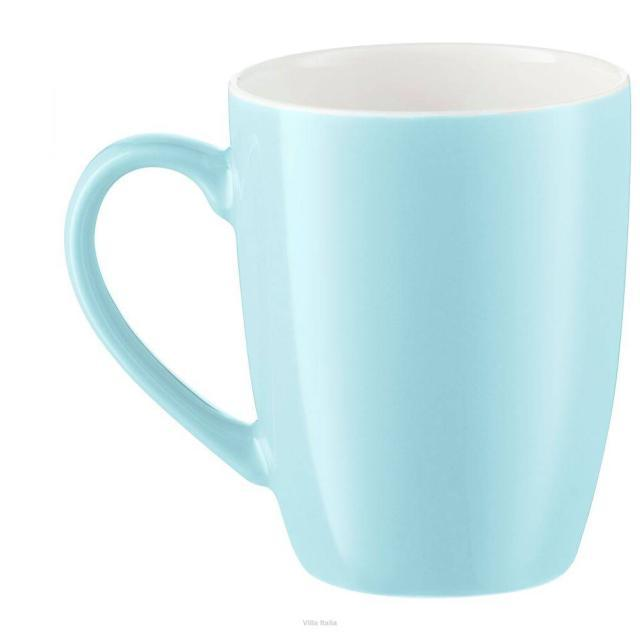Coffee Mug: (65, 40, 634, 594)
